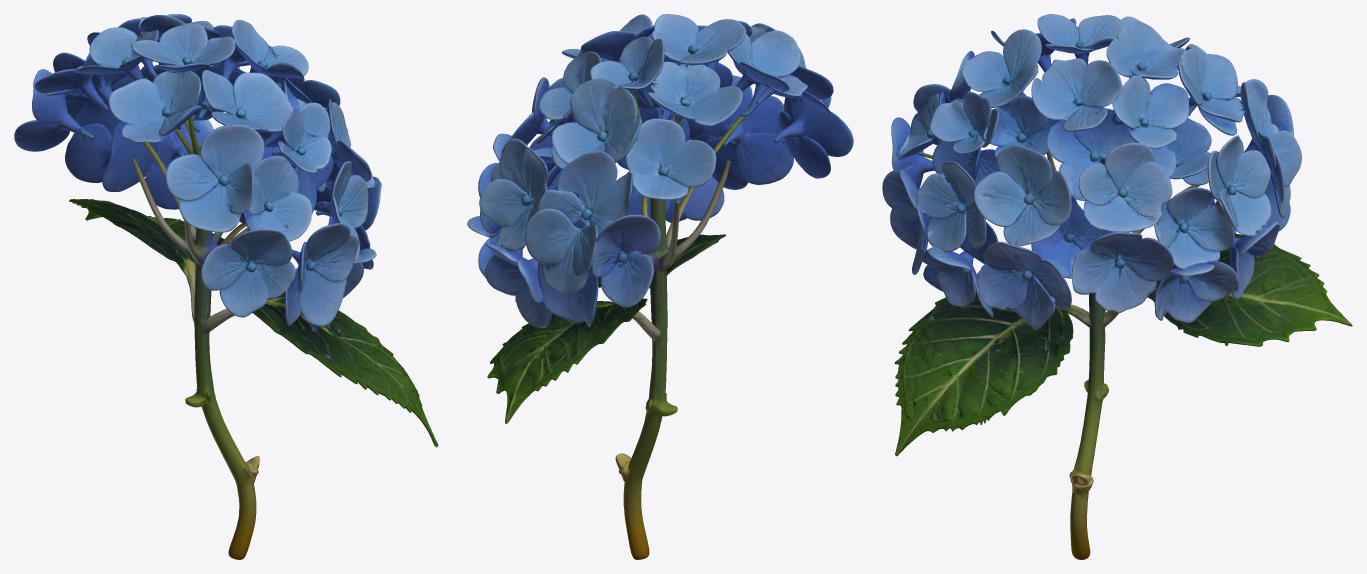
Rendered from blue hydrangea 2.glb.
3 renders of one model, left to right at view 1: azimuth 30°, elevation 25°; view 2: azimuth 150°, elevation 25°; view 3: azimuth 270°, elevation 25°, orthographic. The views are drawn at different scales.
Parts seen in each view (by area): view 1: tripo_node_18e0b2c8-388a-4509-8e54-3868b55a92c1; view 2: tripo_node_18e0b2c8-388a-4509-8e54-3868b55a92c1; view 3: tripo_node_18e0b2c8-388a-4509-8e54-3868b55a92c1.
Boxes of the visible parts, x1=… form: tripo_node_18e0b2c8-388a-4509-8e54-3868b55a92c1: x1=14, y1=14, x2=438, y2=559; tripo_node_18e0b2c8-388a-4509-8e54-3868b55a92c1: x1=467, y1=14, x2=853, y2=559; tripo_node_18e0b2c8-388a-4509-8e54-3868b55a92c1: x1=882, y1=14, x2=1352, y2=559.
Bounding box in the file's own units: 0.4981 × 0.9795 × 0.812.
1 material, 1 textured.
